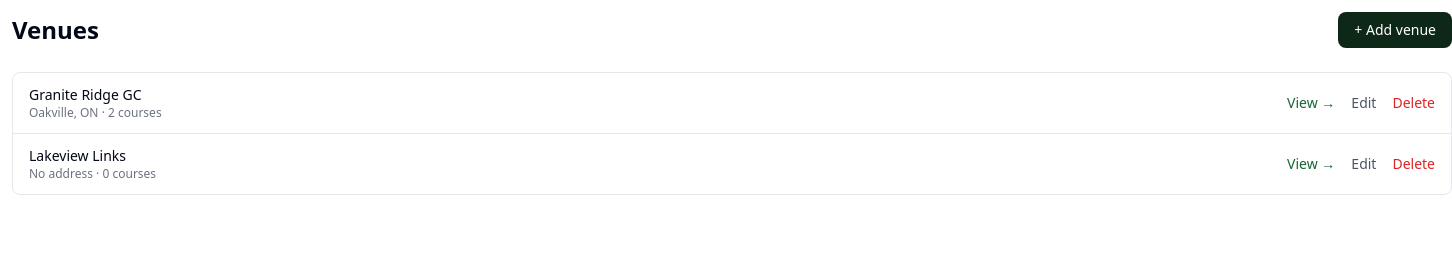
Scenario: VenueListClient › shows error message when delete fails
Click the button "Delete" in the row of "Granite Ridge GC". click: (1414, 103)
box: [1392,93,1435,113]
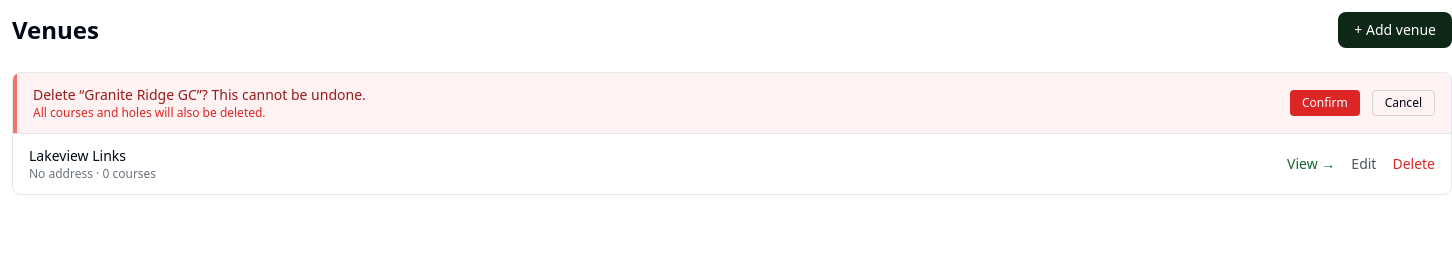
Click the button "Confirm". click: (1325, 103)
box: [1290,90,1360,116]
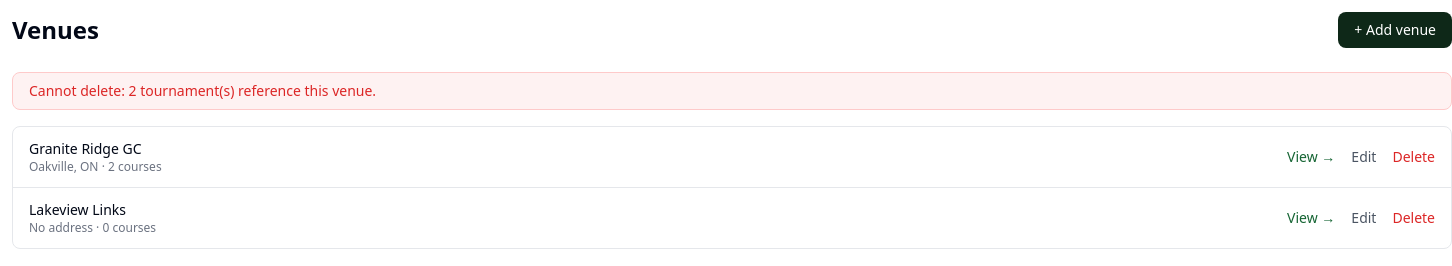
Check: the message shows "Cannot delete", box [29,81,376,100]
